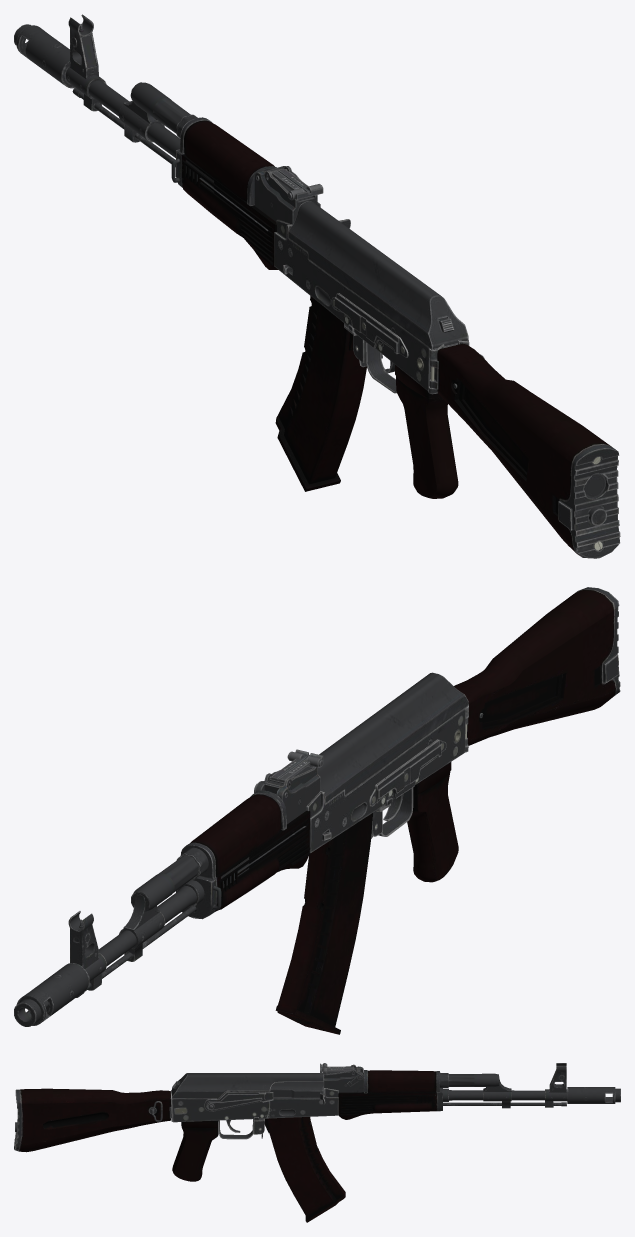
The picture shows the model from 3 angles, top to bottom: view 1: azimuth 30°, elevation 25°; view 2: azimuth 150°, elevation 25°; view 3: azimuth 270°, elevation 25°; orthographic projection. The views are drawn at different scales.
Visible parts, largest first — view 1: Receiver_lowT__0; view 2: Receiver_lowT__0; view 3: Receiver_lowT__0.
Part boxes in pixels (x1,y1,x2,y2): Receiver_lowT__0: (14, 14, 620, 558); Receiver_lowT__0: (14, 587, 620, 1034); Receiver_lowT__0: (14, 1063, 620, 1222).
Bounding box in the file's own units: 6.57 × 26.38 × 94.28.
1 material, 1 textured.
